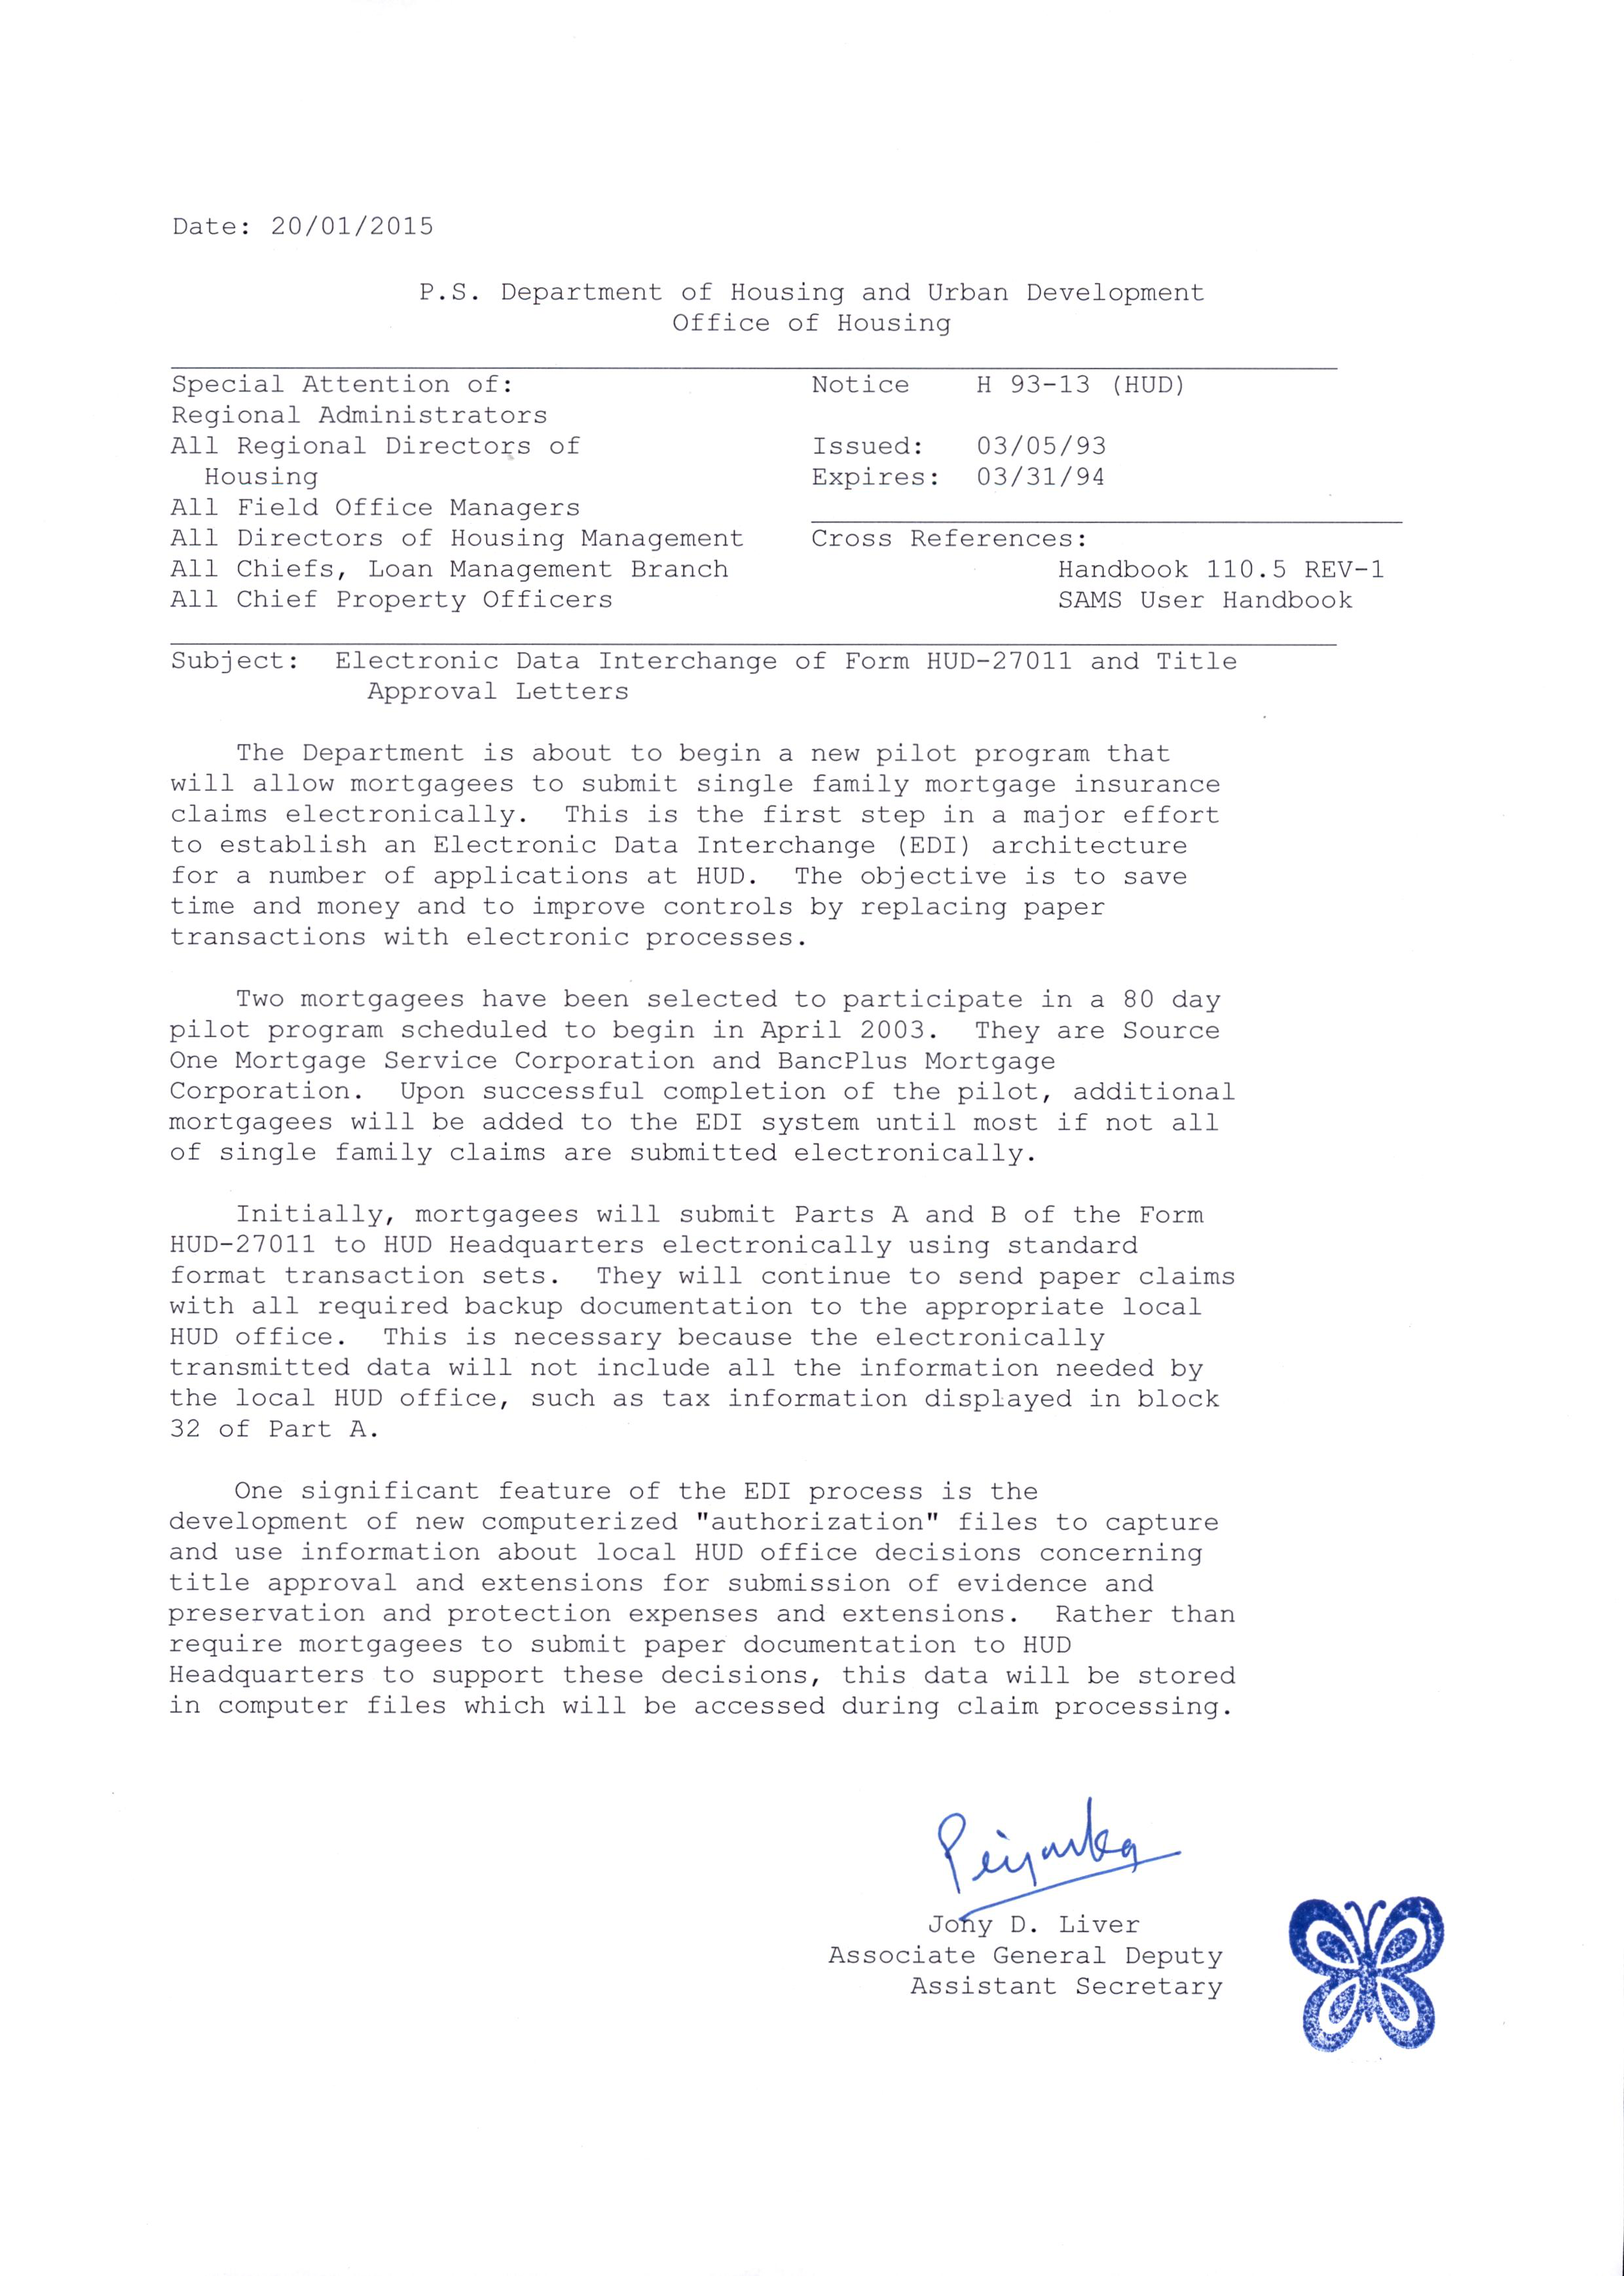Signature: (933, 1791, 1185, 1910)
